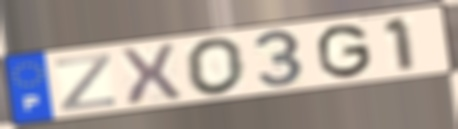1: (380, 15, 422, 74)
3: (251, 26, 308, 92)
G: (316, 22, 375, 80)
O: (183, 35, 249, 98)
X: (116, 42, 186, 109)
Z: (53, 51, 118, 114)
